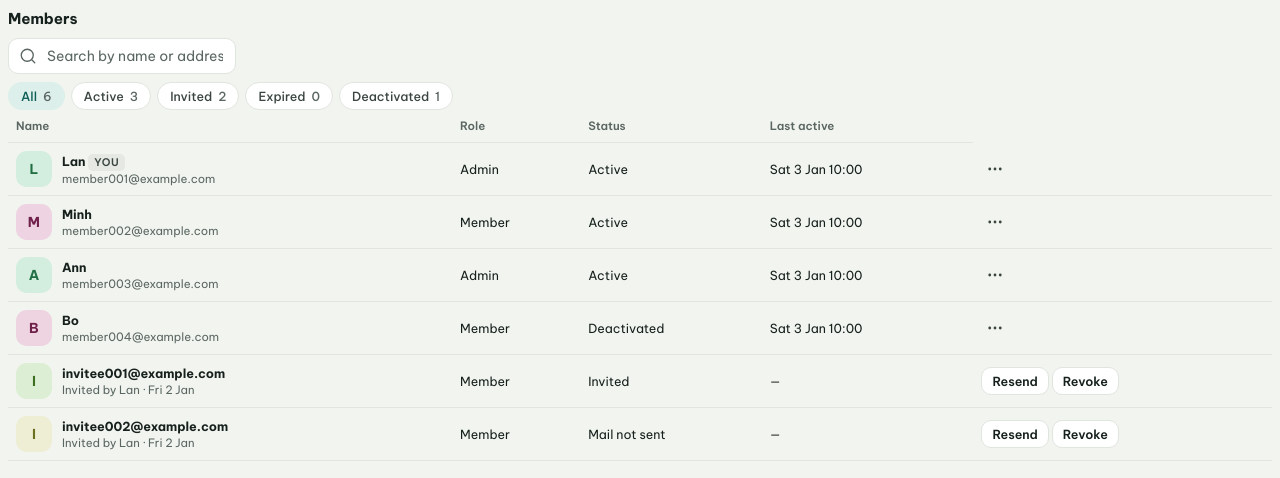
Scenario: the menu of an account row (R15, R16, R17) › an active Member among two Admins: Change role holds Member (current) and Admin, then Deactivate
The width and height of the screenshot is (1280, 478).
Click the button named "Actions for Minh" at (995, 222), box [981,208,1009,236]
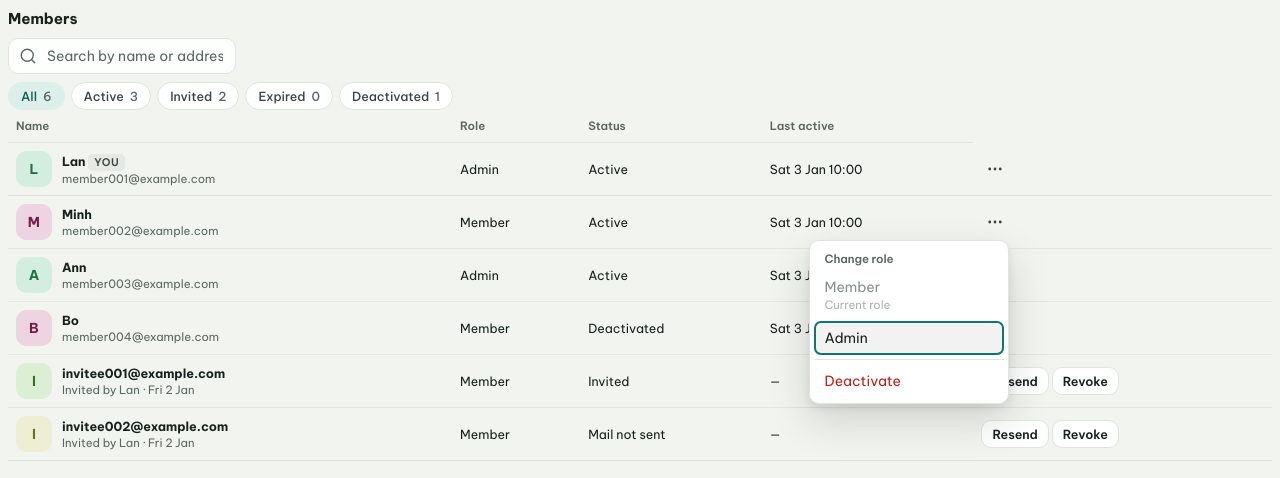
Check: the menu item "Member Current role" is shown, box [814,270,1004,321]
